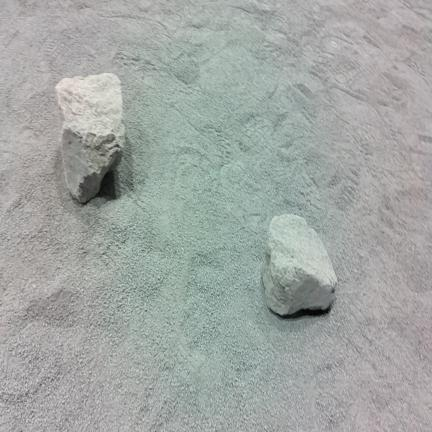Rock: (56, 74, 124, 202), (263, 215, 336, 315)
